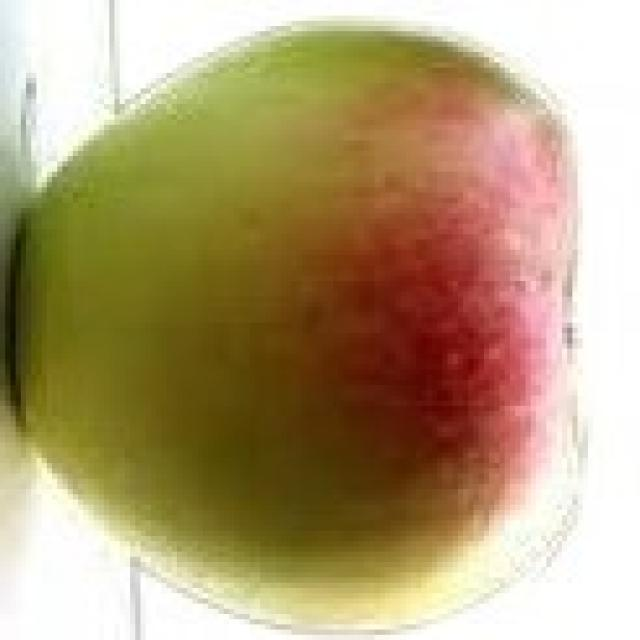75-_ripeness: (14, 23, 594, 636)
